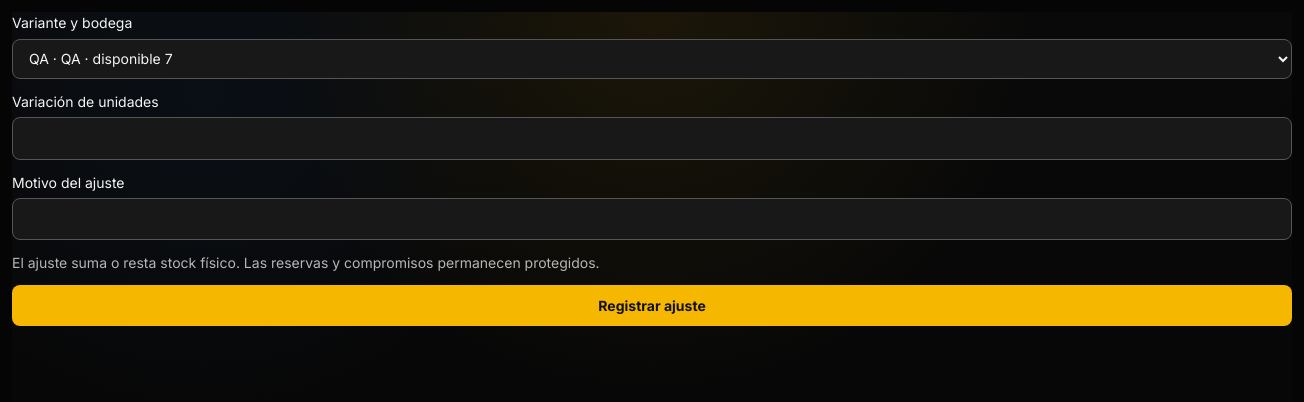
INV mutation observability without invented success › an invalid adjustment never leaves the browser
Type "0" into the number field labelled "Variación de unidades" at [652, 138], box x1=12 y1=117 x2=1292 y2=160
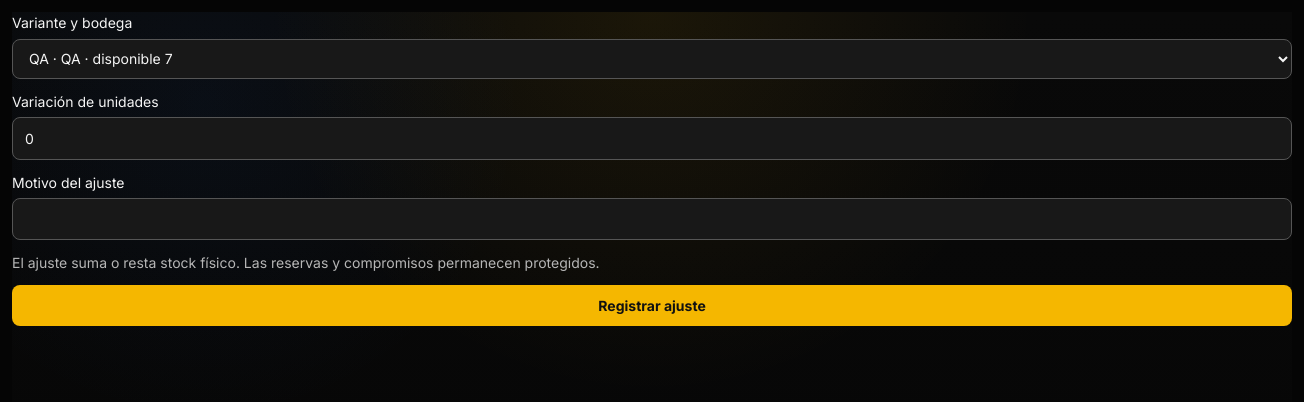
Submit the form named "Ajustar stock"
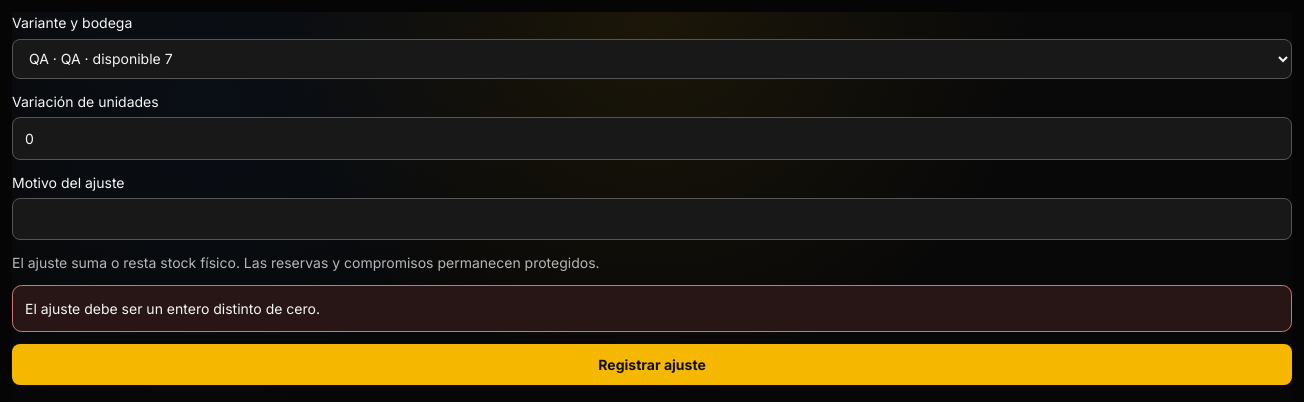
expect the message shows "entero distinto de cero": met, box x1=25 y1=300 x2=320 y2=317
